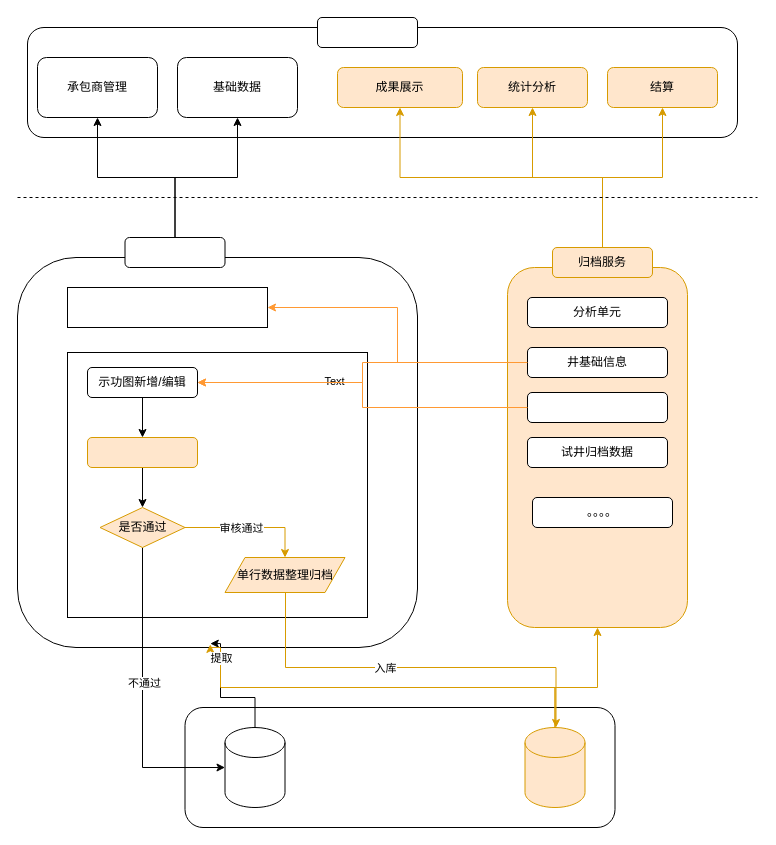
The diagram is 776 pixels wide and 845 high, and some of its shapes have lost their labels. Each missing label, with the centre of its shape:
"前端页面" belongs at point 367,32.
"功图液面" belongs at point 597,407.
"归档库" belongs at point 554,767.
"流程审核(示功图)" belongs at point 142,452.
"通知单CRUD" belongs at point 167,307.
"采集库" belongs at point 254,767.
"采集服务" belongs at point 174,252.
